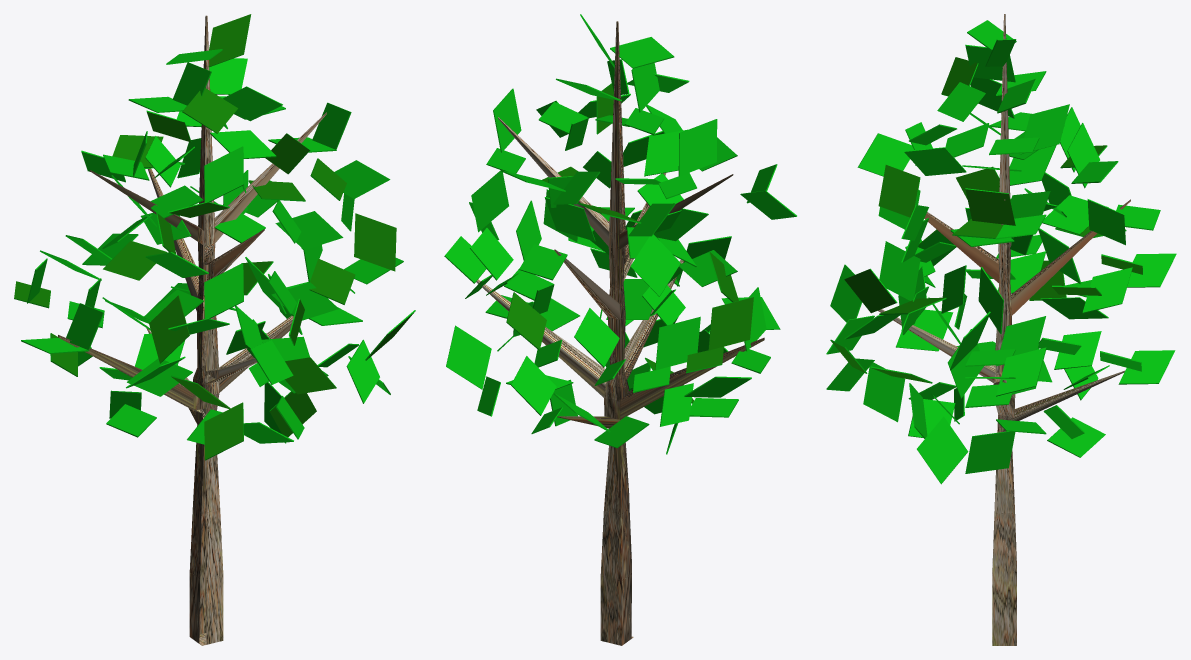
File: tree.fbx
3 views of the same model, side by side, from view 1: azimuth 30°, elevation 25°; view 2: azimuth 150°, elevation 25°; view 3: azimuth 270°, elevation 25° (orthographic).
Parts seen in each view (by area): view 1: Cube; view 2: Cube; view 3: Cube.
Boxes of the visible parts, x1,y1,x2,y2 form: Cube: [14, 14, 415, 645]; Cube: [444, 14, 796, 645]; Cube: [826, 14, 1176, 645].
Bounding box in the file's own units: 290 × 504 × 256.
Materials: 3 (1 with a texture image).
